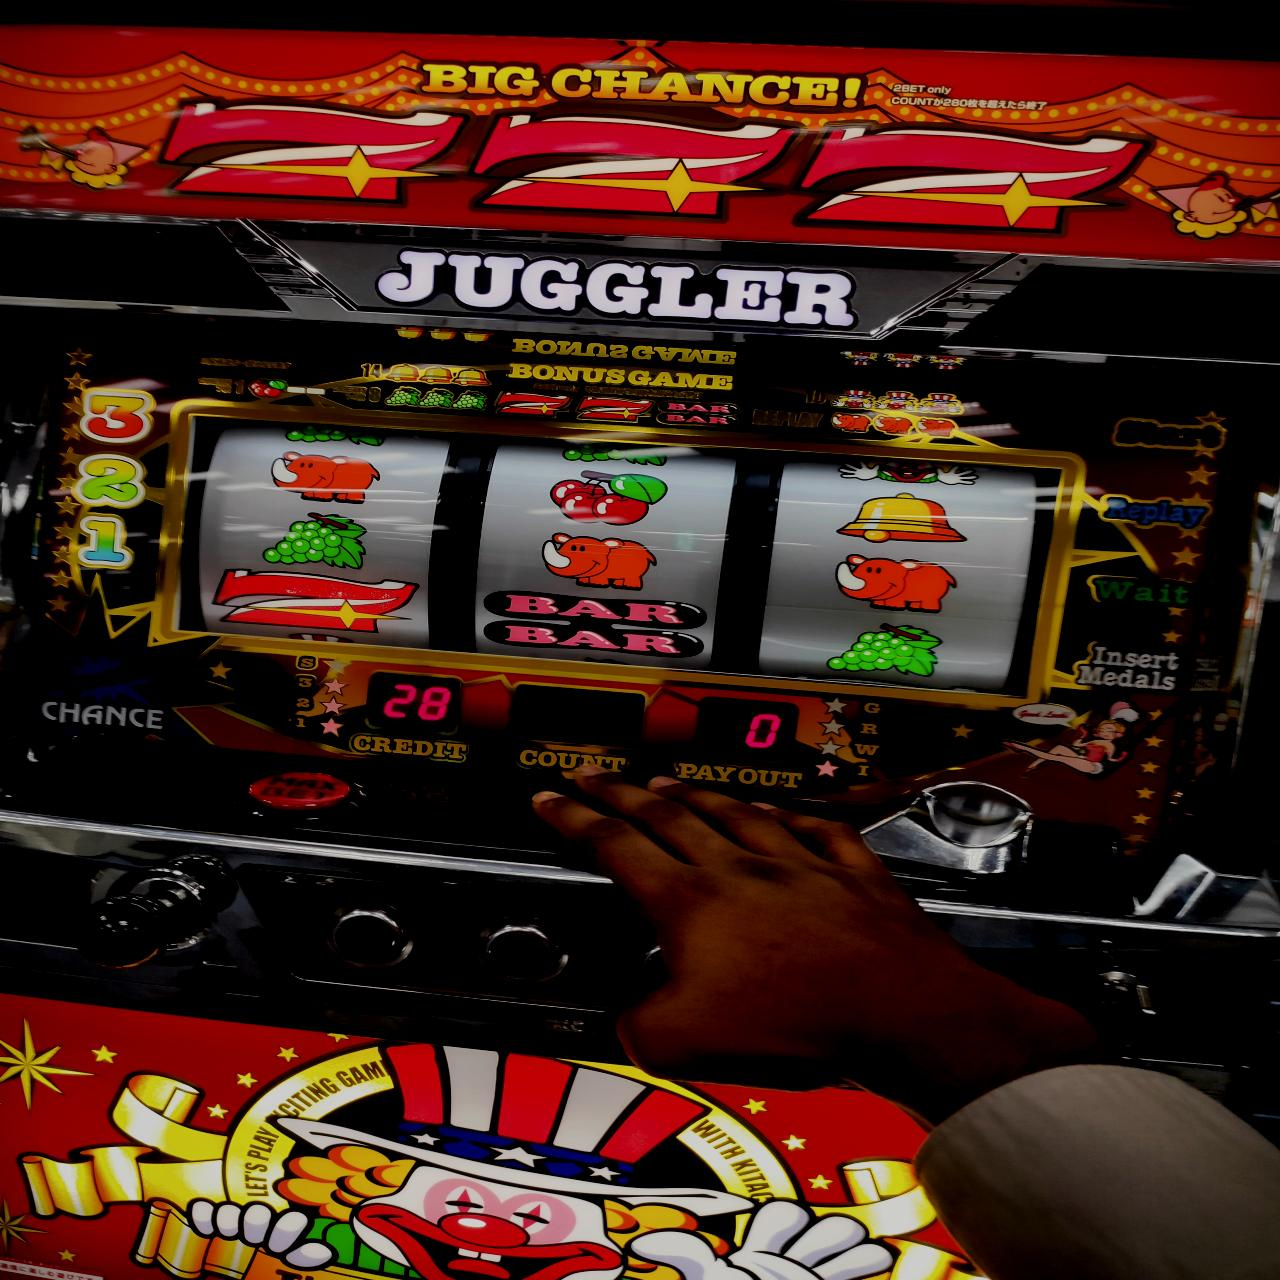7: (218, 567, 415, 635)
8: (836, 551, 959, 615), (538, 532, 658, 593), (264, 452, 386, 505)
Display: (158, 423, 1047, 695)
bar: (485, 591, 704, 662)
bell: (832, 491, 969, 547)
cherry: (546, 470, 669, 524)
grape: (824, 624, 940, 682), (261, 511, 372, 572)
